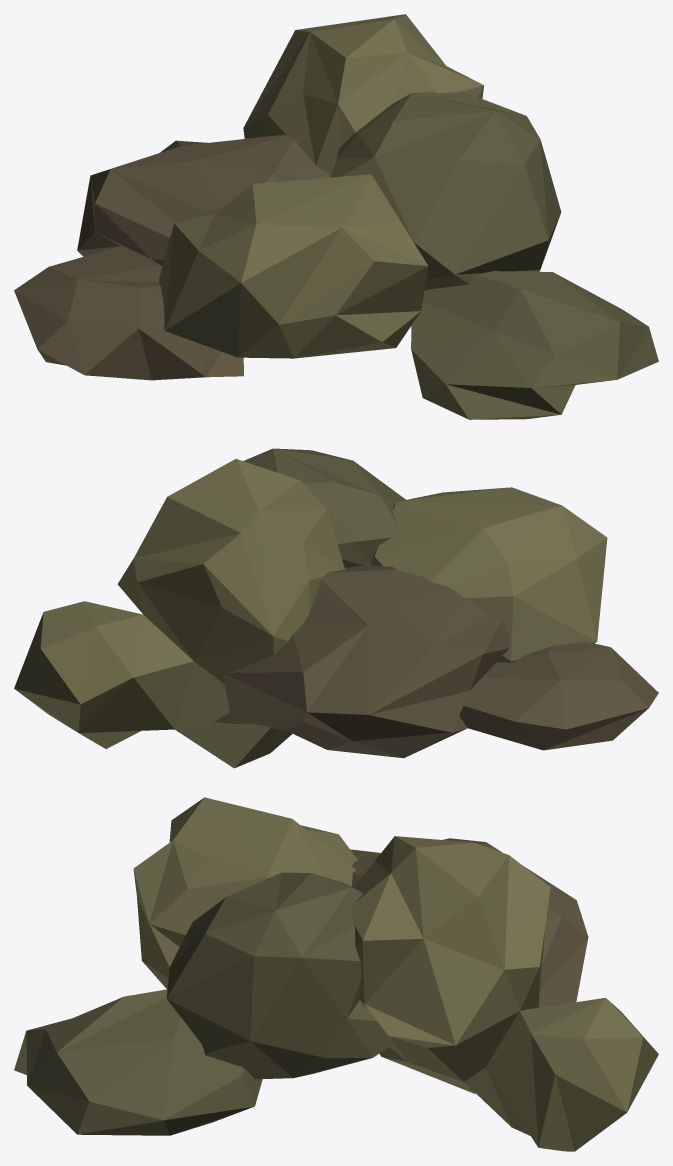
File: SM_Env_Bush_Large_04.fbx
3 renders of one model, top to bottom at view 1: azimuth 30°, elevation 25°; view 2: azimuth 150°, elevation 25°; view 3: azimuth 270°, elevation 25°, orthographic. The views are drawn at different scales.
Visible parts, largest first — view 1: SM_Env_Bush_Large_04; view 2: SM_Env_Bush_Large_04; view 3: SM_Env_Bush_Large_04.
Boxes of the visible parts, left/top/right/bottom form: SM_Env_Bush_Large_04: left=14, top=14, right=658, bottom=419; SM_Env_Bush_Large_04: left=14, top=448, right=658, bottom=768; SM_Env_Bush_Large_04: left=14, top=797, right=658, bottom=1151.
Bounding box in the file's own units: 734 × 366 × 770.
